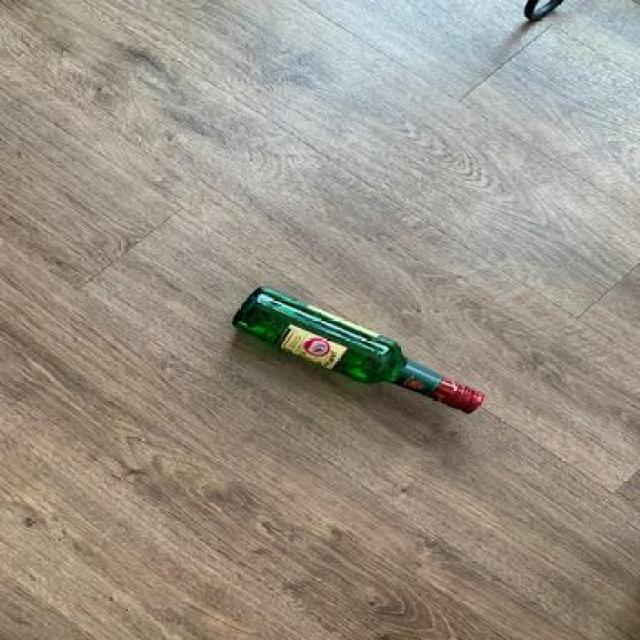trash: (228, 284, 492, 416)
